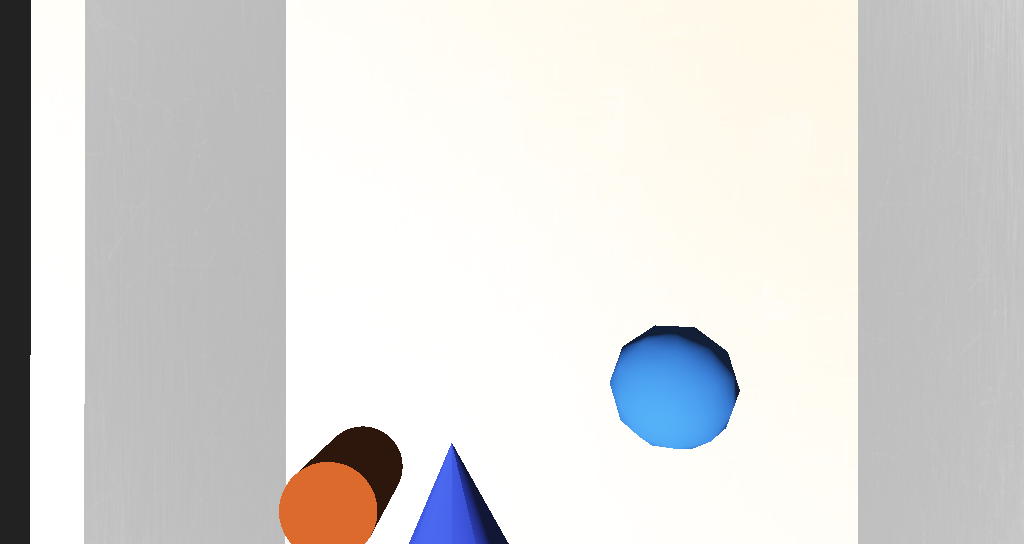cone: (360, 324, 421, 363)
cylinder: (411, 324, 478, 382)
sphere: (519, 289, 586, 332)
